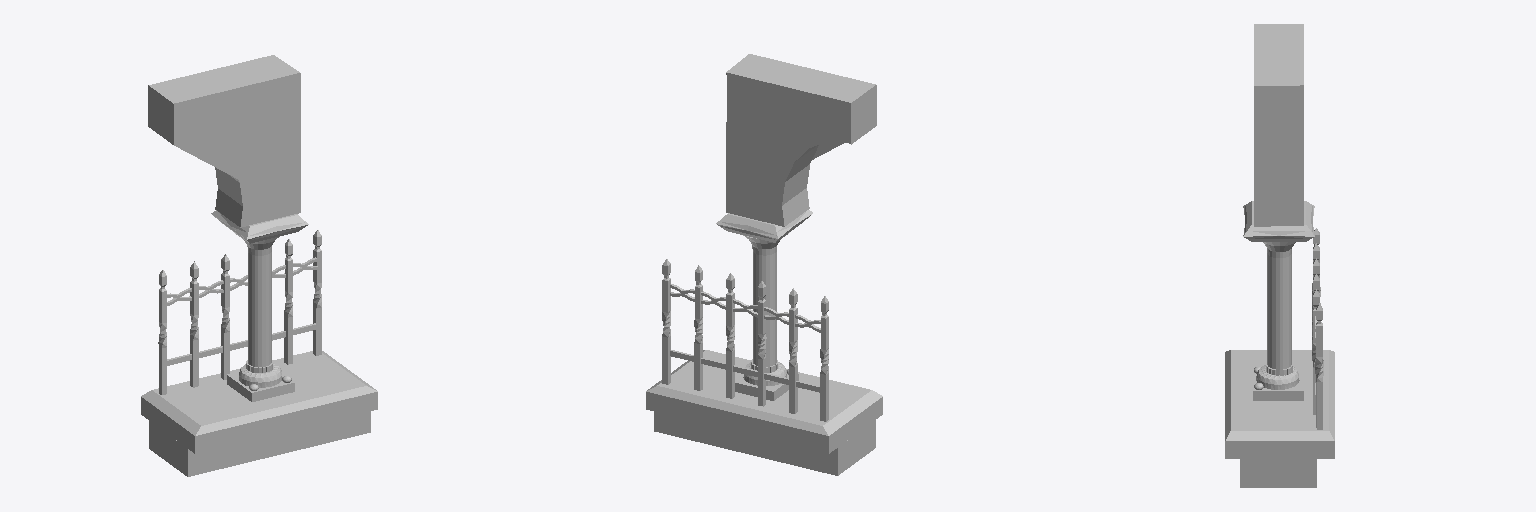
The model's file is back_insideEnd.obj.
3 views of the same model, side by side, from view 1: azimuth 30°, elevation 25°; view 2: azimuth 150°, elevation 25°; view 3: azimuth 270°, elevation 25° (orthographic).
Parts seen in each view (by area): view 1: polySurface11; view 2: polySurface11; view 3: polySurface11.
Boxes of the visible parts, box(x1,y1,x2,y2) form: polySurface11: box(141, 55, 377, 476); polySurface11: box(646, 54, 882, 475); polySurface11: box(1225, 24, 1334, 487).
Bounding box in the file's own units: 6.28 × 11.64 × 3.11.